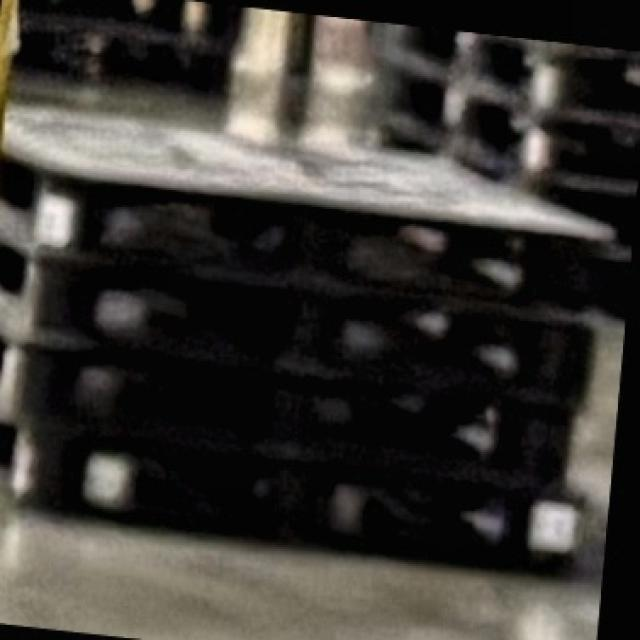igps: (0, 89, 620, 327), (6, 418, 591, 588), (31, 252, 606, 415), (14, 331, 580, 494), (355, 52, 538, 179), (358, 19, 546, 109)
